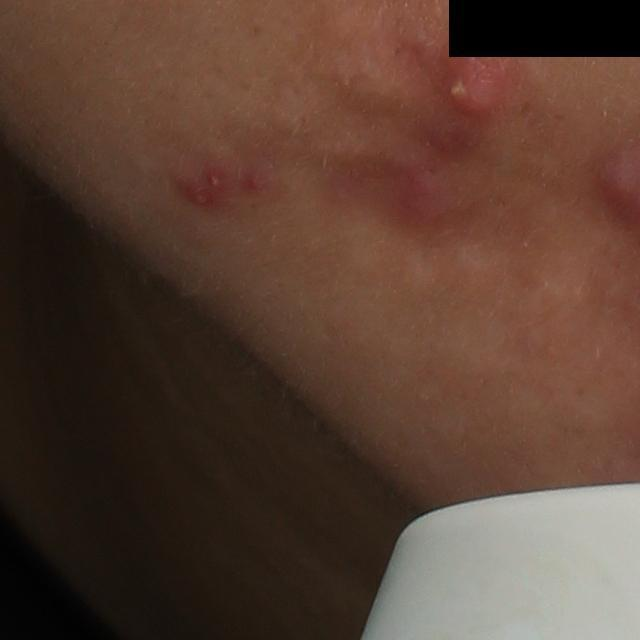hypertrophic_scar: (314, 34, 423, 141)
papule: (391, 163, 463, 226), (179, 182, 220, 211)
pustule: (434, 55, 508, 124)
